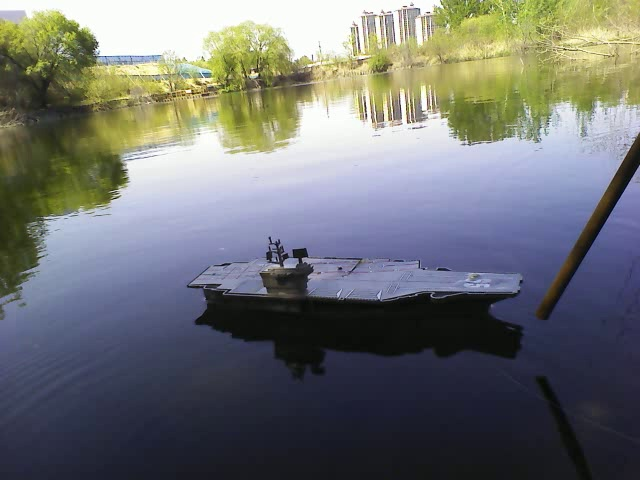aircraft_carrier: (185, 243, 524, 320)
